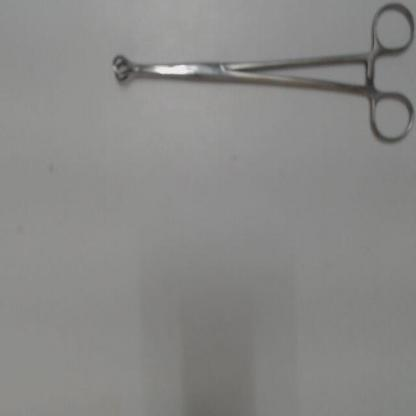8 Babcock Tissue Forceps: (106, 0, 414, 147)
